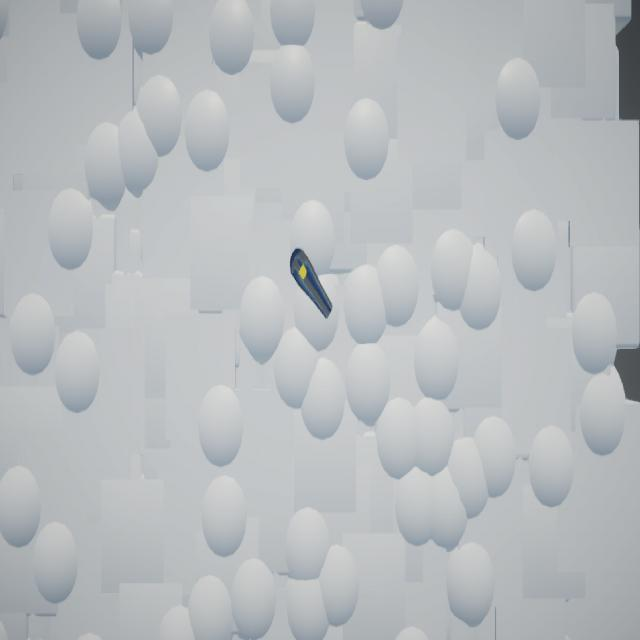handle_knife: (290, 249, 334, 321)
